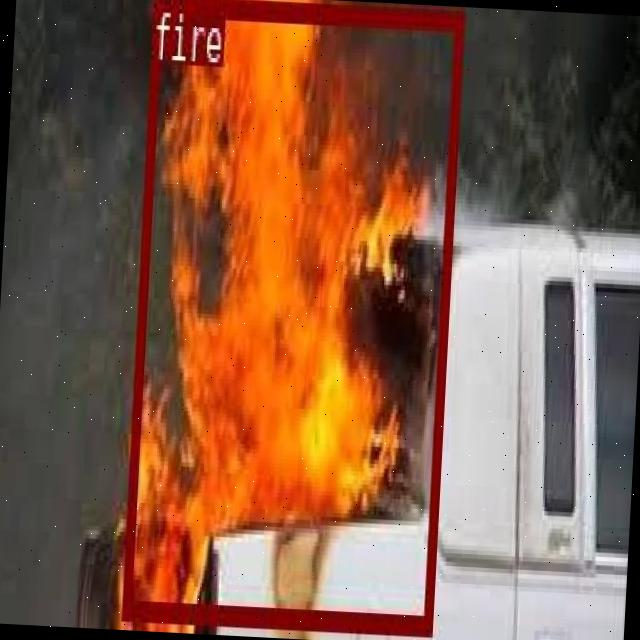fire: (121, 0, 461, 632)
